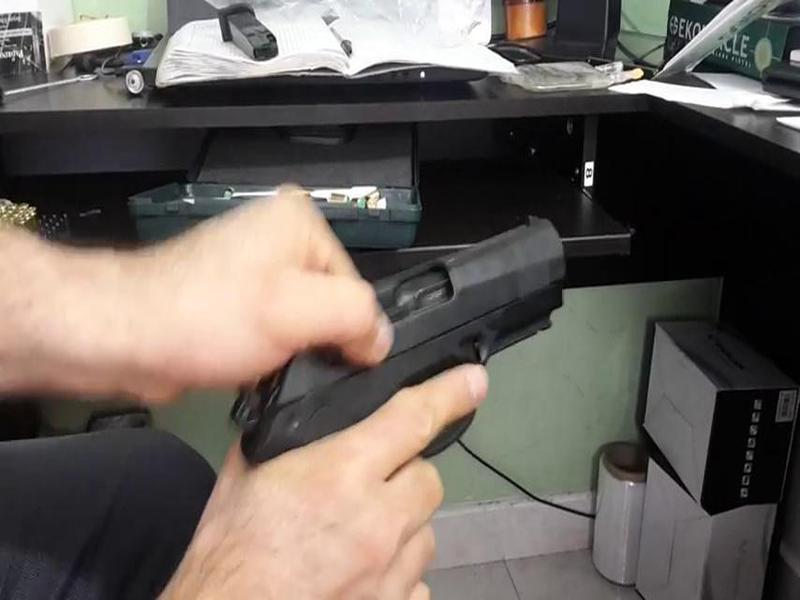Pistola: (215, 207, 578, 456)
